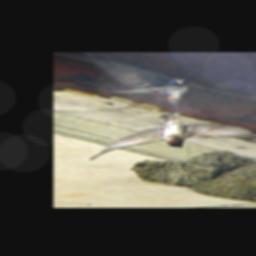Swallow: (86, 110, 256, 162)
